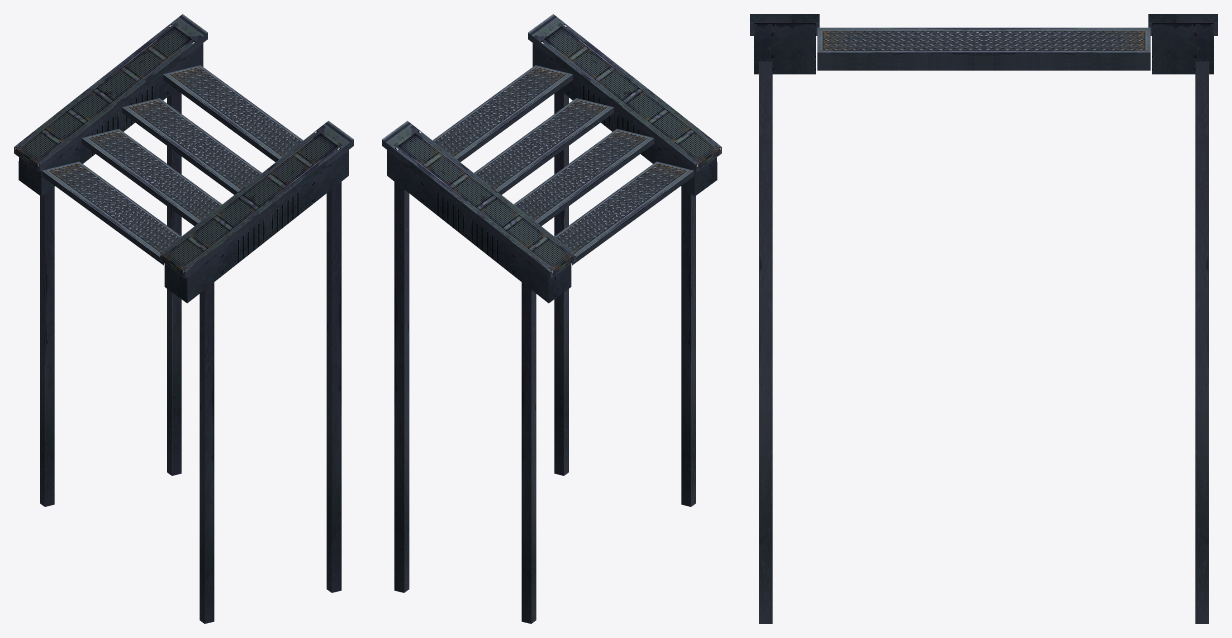
File: yw_huanghunzhihu_louti01.FBX
The picture shows the model from 3 angles, left to right: view 1: azimuth 30°, elevation 25°; view 2: azimuth 150°, elevation 25°; view 3: azimuth 270°, elevation 25°; orthographic projection. The views are drawn at different scales.
Visible parts, largest first — view 1: yw_huanghunzhihu_louti01; view 2: yw_huanghunzhihu_louti01; view 3: yw_huanghunzhihu_louti01.
Boxes of the visible parts, x1,y1,x2,y2 form: yw_huanghunzhihu_louti01: [14, 14, 353, 623]; yw_huanghunzhihu_louti01: [382, 14, 721, 623]; yw_huanghunzhihu_louti01: [750, 14, 1217, 623].
Bounding box in the file's own units: 364 × 932 × 641.
